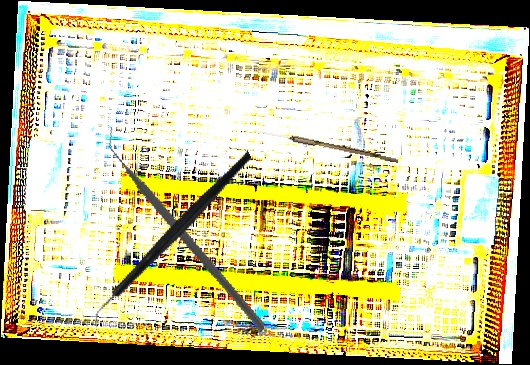Chopper: (65, 123, 310, 333), (54, 149, 292, 333)
Surgical Spoon: (253, 128, 400, 163)
